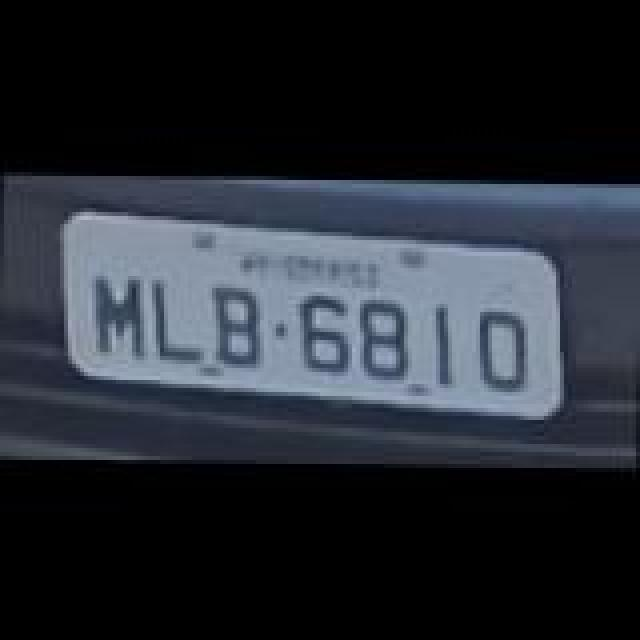1: (426, 302, 462, 382)
6: (290, 294, 358, 370)
8: (354, 298, 422, 378)
B: (208, 282, 272, 362)
D: (474, 308, 542, 388)
L: (148, 276, 212, 360)
M: (90, 270, 158, 354)
